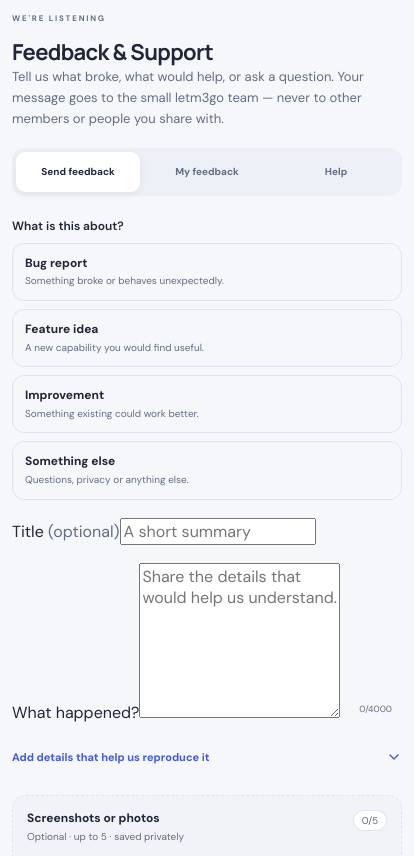
Test: keeps the unread indicator when the receipt could not be saved
This screenshot has width=414, height=856.
Click the button "My feedback". click: coordinates (207, 172)
box: [145, 152, 269, 192]
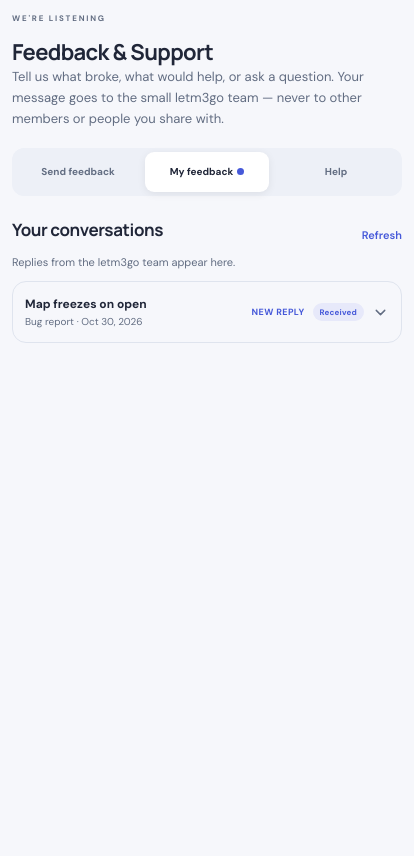
Expected: the element named "Unread reply" is shown, [237, 168, 244, 175]
